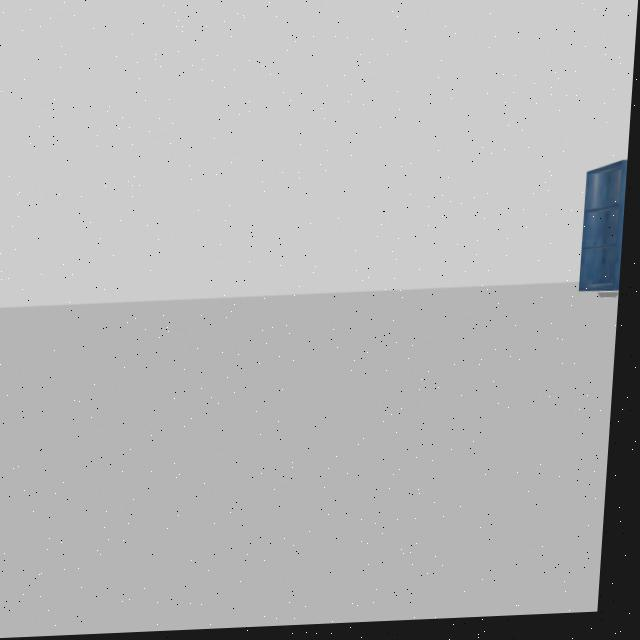bowl: (601, 294, 623, 303)
shelf: (574, 160, 630, 299)
